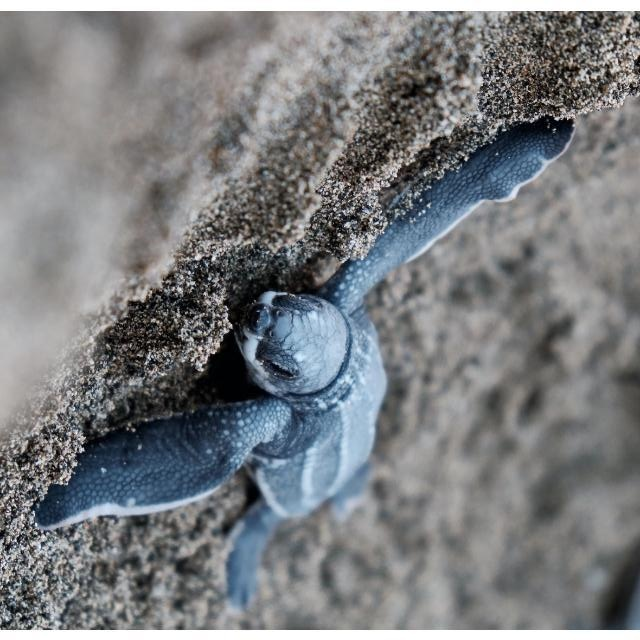turtle: (34, 111, 574, 607)
